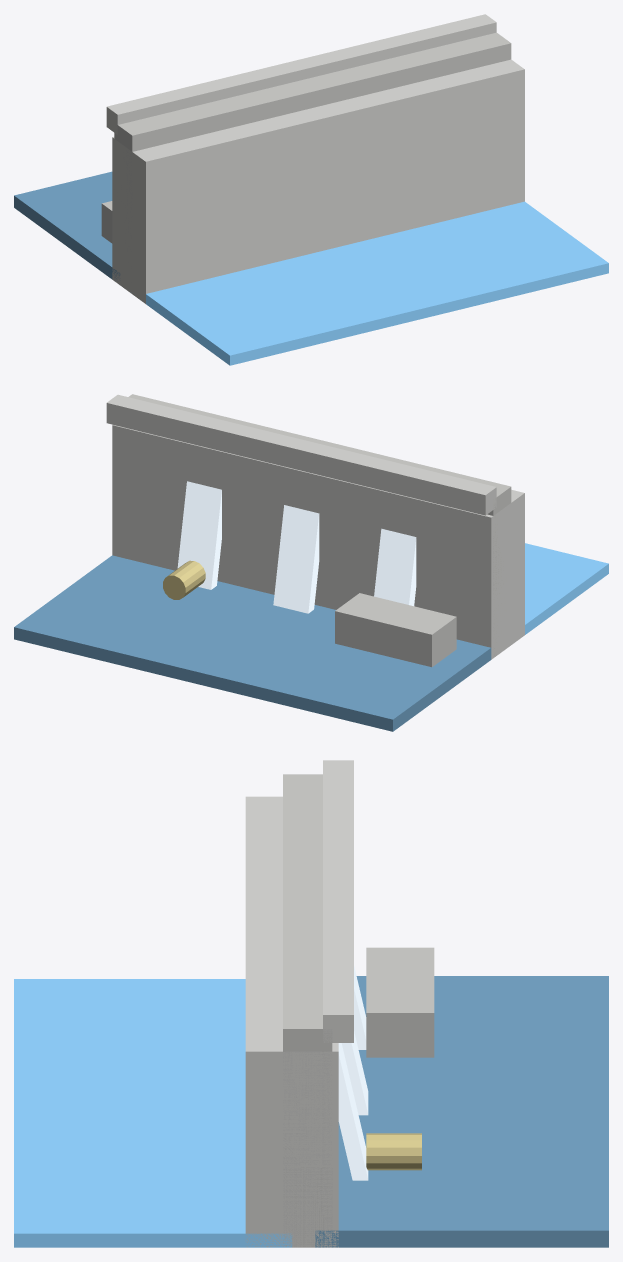
File: hydro.glb
3 views of the same model, one above another, from view 1: azimuth 30°, elevation 25°; view 2: azimuth 150°, elevation 25°; view 3: azimuth 270°, elevation 25° (orthographic). The views are drawn at different scales.
Parts seen in each view (by area): view 1: hydro; view 2: hydro; view 3: hydro.
Part boxes in pixels (x1,y1,x2,y2): hydro: (14, 14, 608, 365); hydro: (14, 394, 608, 731); hydro: (14, 760, 608, 1247).
Bounding box in the file's own units: 1.95 × 0.83 × 1.93.
